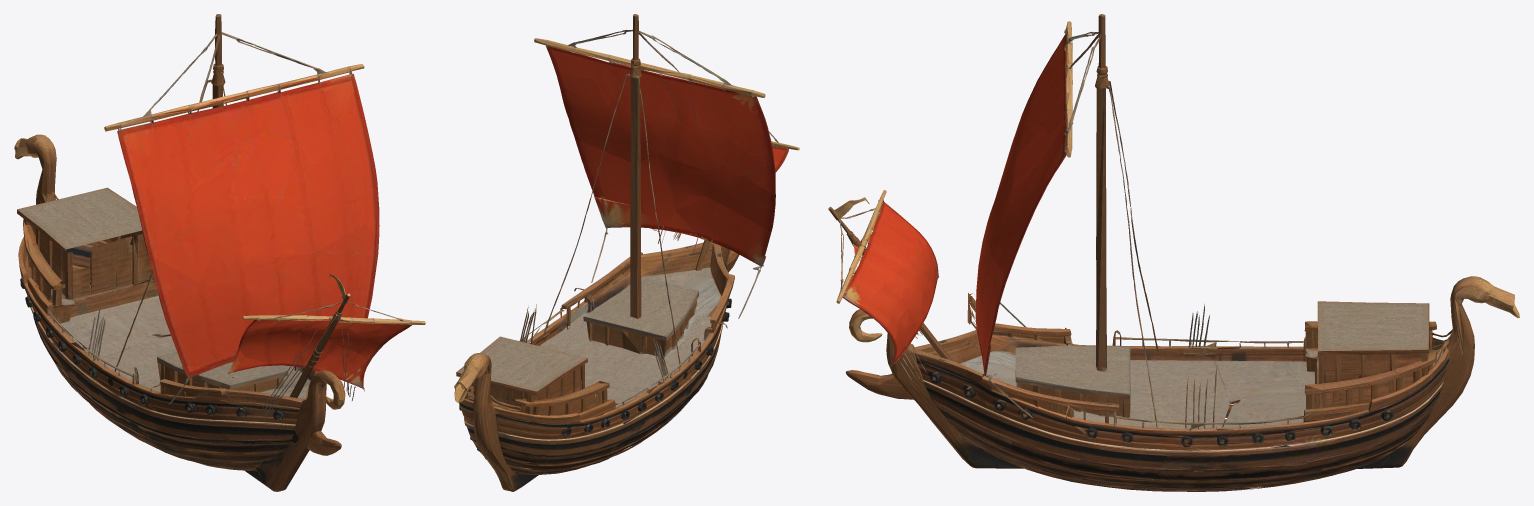
The model's file is merchant-ship.glb.
The picture shows the model from 3 angles, left to right: view 1: azimuth 30°, elevation 25°; view 2: azimuth 150°, elevation 25°; view 3: azimuth 270°, elevation 25°; orthographic projection. The views are drawn at different scales.
Visible parts, largest first — view 1: merchant-ship; view 2: merchant-ship; view 3: merchant-ship.
Part boxes in pixels (x1,y1,x2,y2): merchant-ship: [14, 14, 425, 491]; merchant-ship: [454, 14, 799, 491]; merchant-ship: [828, 14, 1519, 491].
Size of the model in its own units: 8.11 by 12.95 by 18.
1 material, 1 textured.
